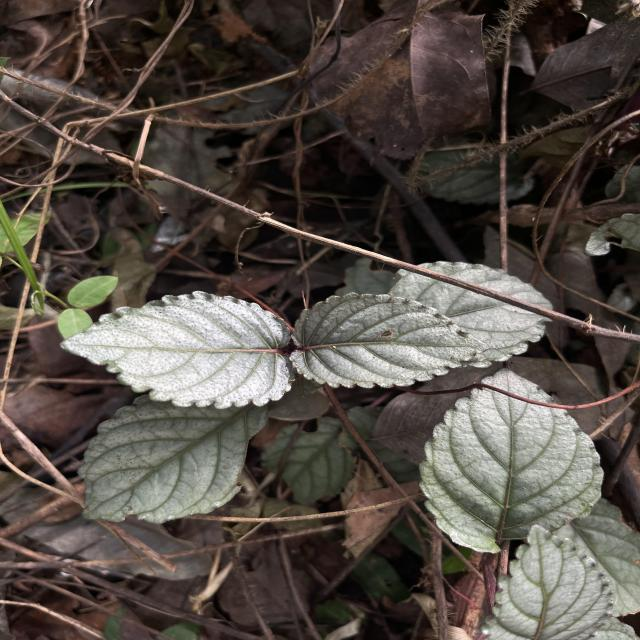Hemigraphis colorata: (416, 364, 608, 556), (55, 286, 297, 412), (74, 390, 273, 527), (288, 288, 493, 392), (390, 257, 554, 369), (476, 521, 620, 640)
